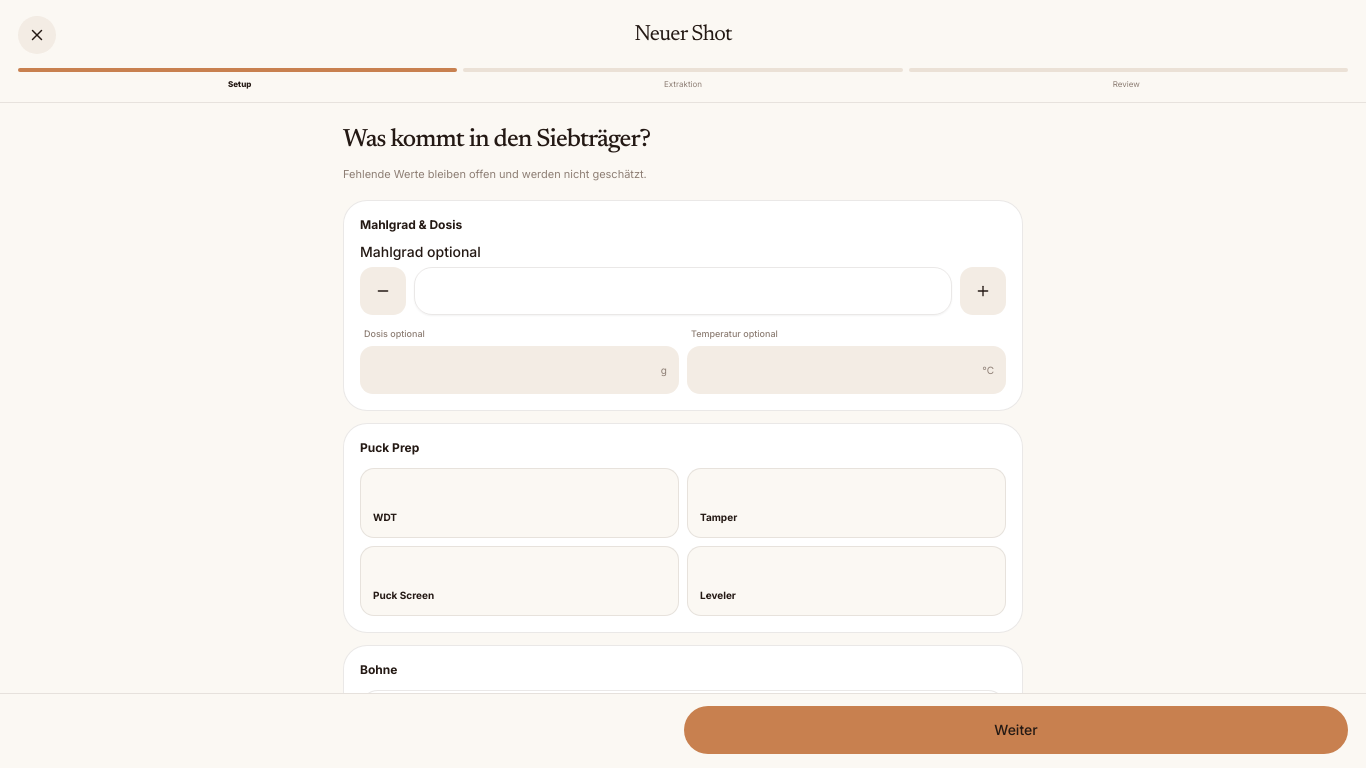
it: ShotWizard › öffnet nach der Extraktion das Review, ohne den Shot zu speichern
Click the button "Weiter" at (1016, 730), box [684,706,1348,754]
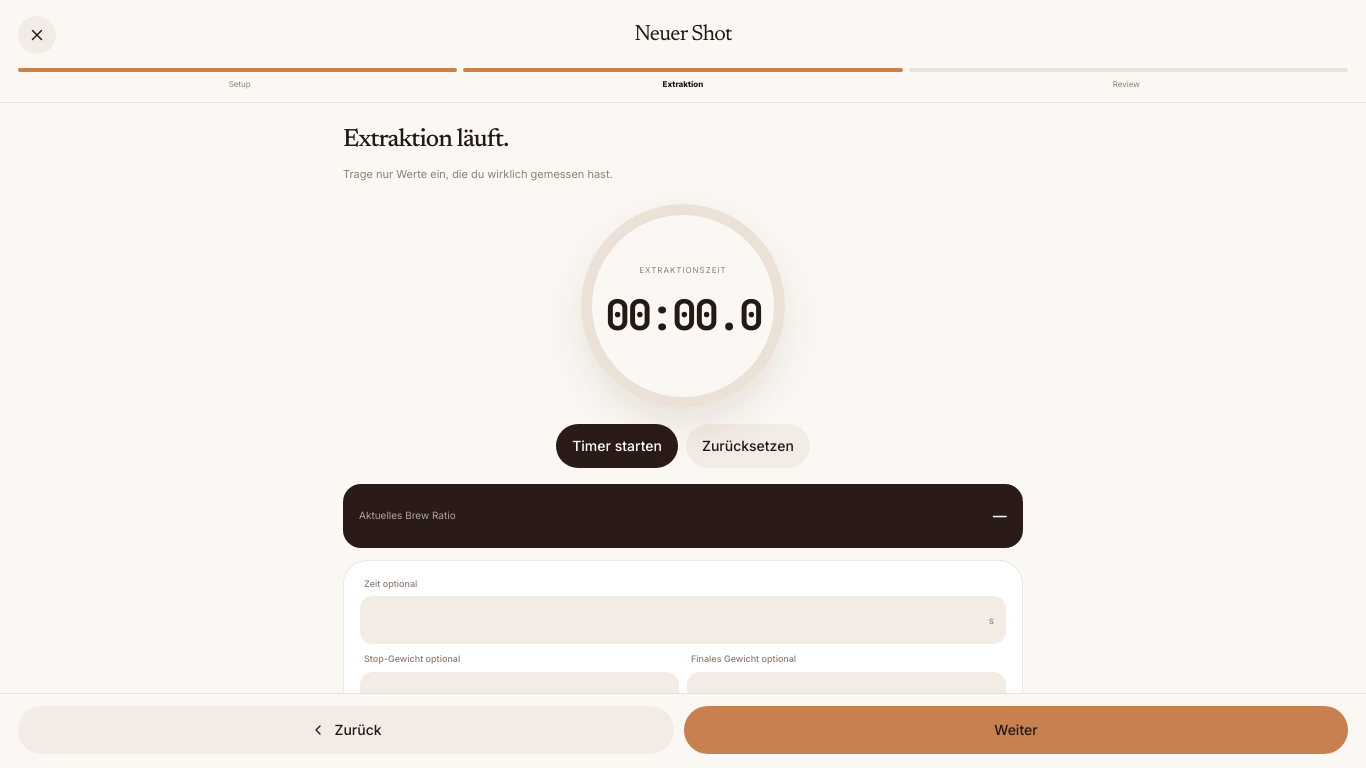
Now the heading "Extraktion läuft." is shown, box [343,128,508,153]
Click the button "Weiter" at (1016, 730), box [684,706,1348,754]
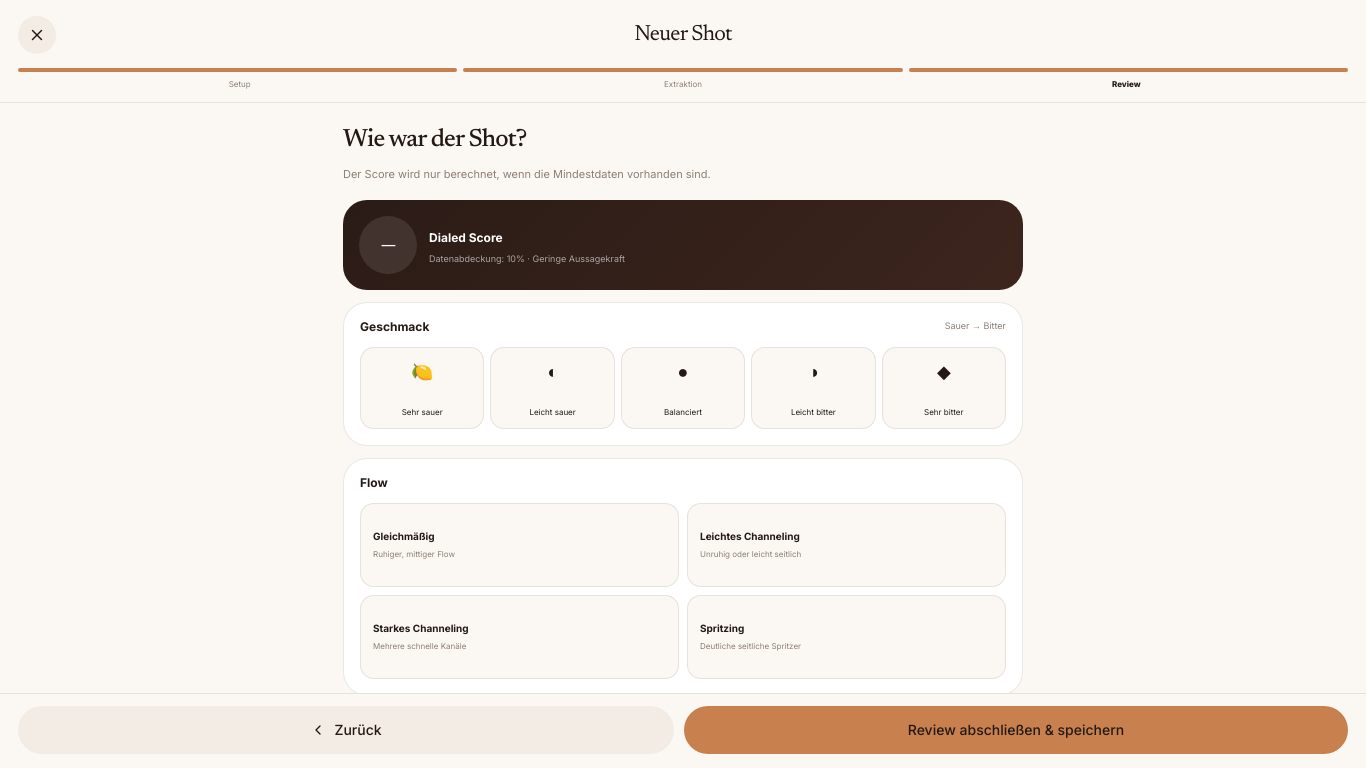
Now the heading "Wie war der Shot?" is shown, box [343,128,526,153]
Now the button "Review abschließen & speichern" is shown, box [684,706,1348,754]
